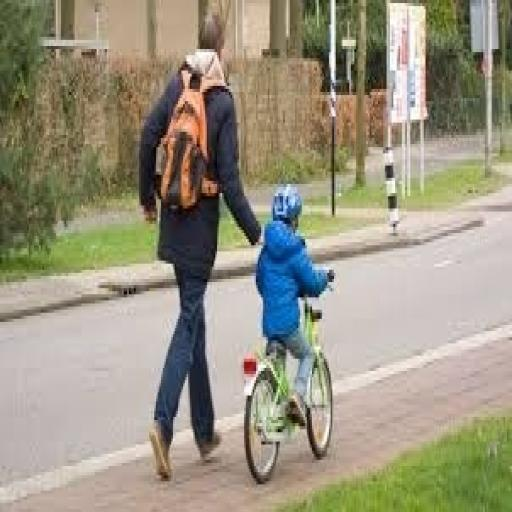cycling: (136, 10, 264, 484), (252, 181, 338, 432)
